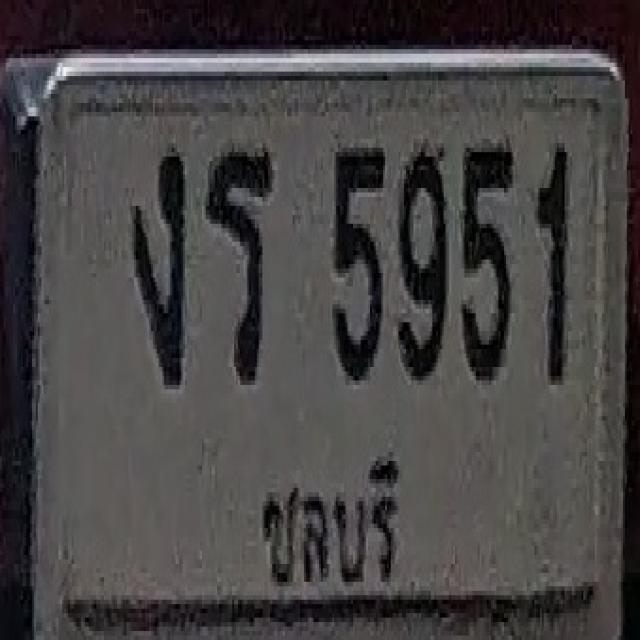-: (206, 146, 272, 382), (131, 148, 184, 385)
1: (536, 141, 568, 383)
5: (333, 144, 384, 380), (462, 144, 512, 380)
9: (398, 146, 447, 378)
CBI: (256, 430, 404, 605)
